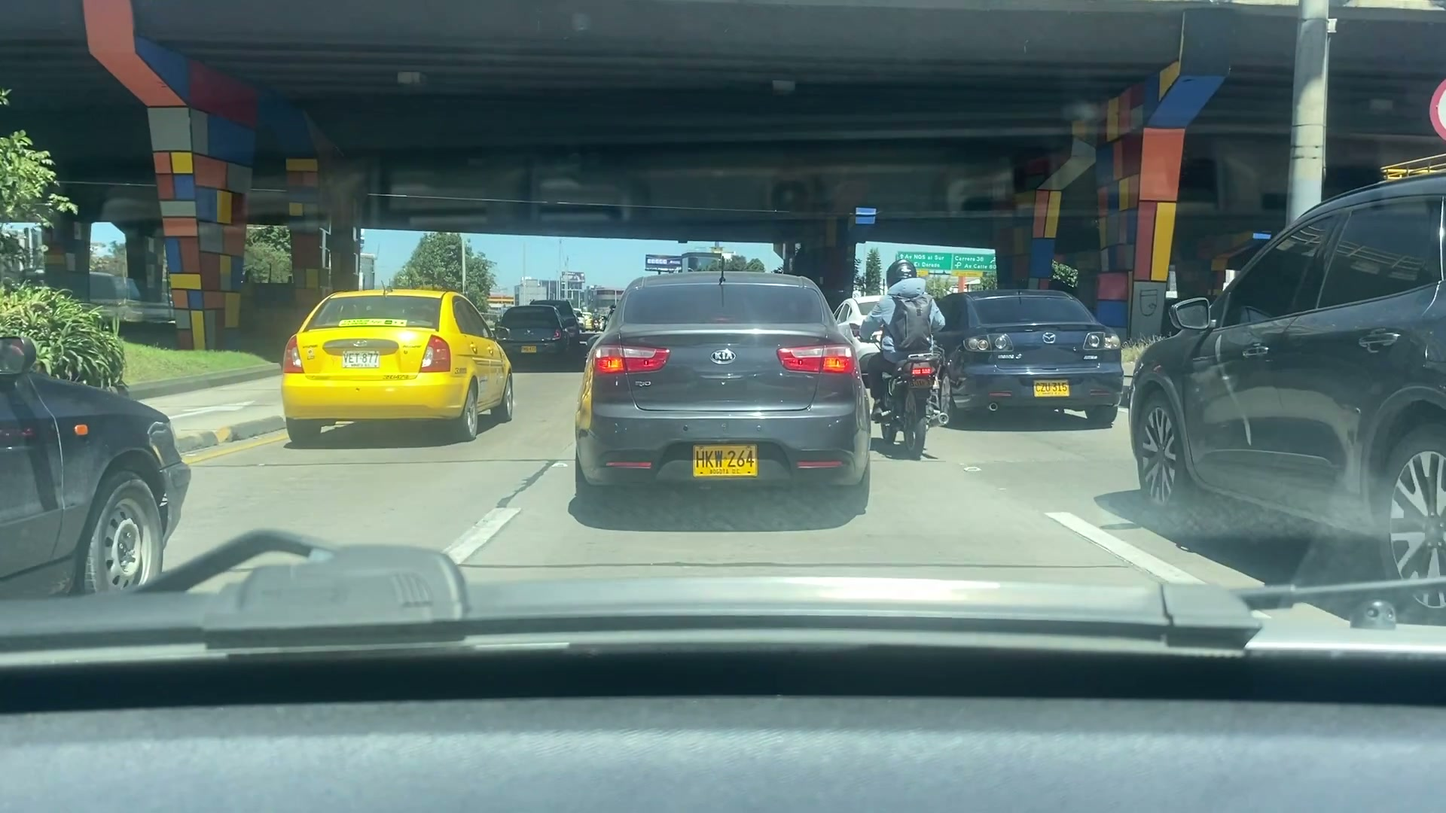car: (1123, 143, 1446, 617), (581, 276, 873, 512), (0, 332, 193, 594), (280, 285, 514, 442), (937, 288, 1124, 425), (498, 304, 566, 360)
motorcycle: (861, 343, 944, 454)
person: (863, 256, 947, 420)
